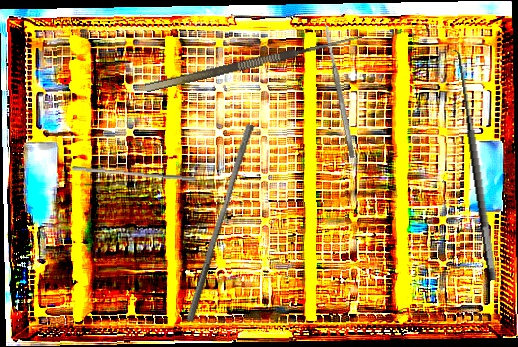Hook Surgical: (142, 21, 365, 93), (437, 48, 500, 284)
Pusher: (186, 121, 255, 325), (71, 165, 197, 182)
Spatula Surgical: (323, 24, 356, 159)
